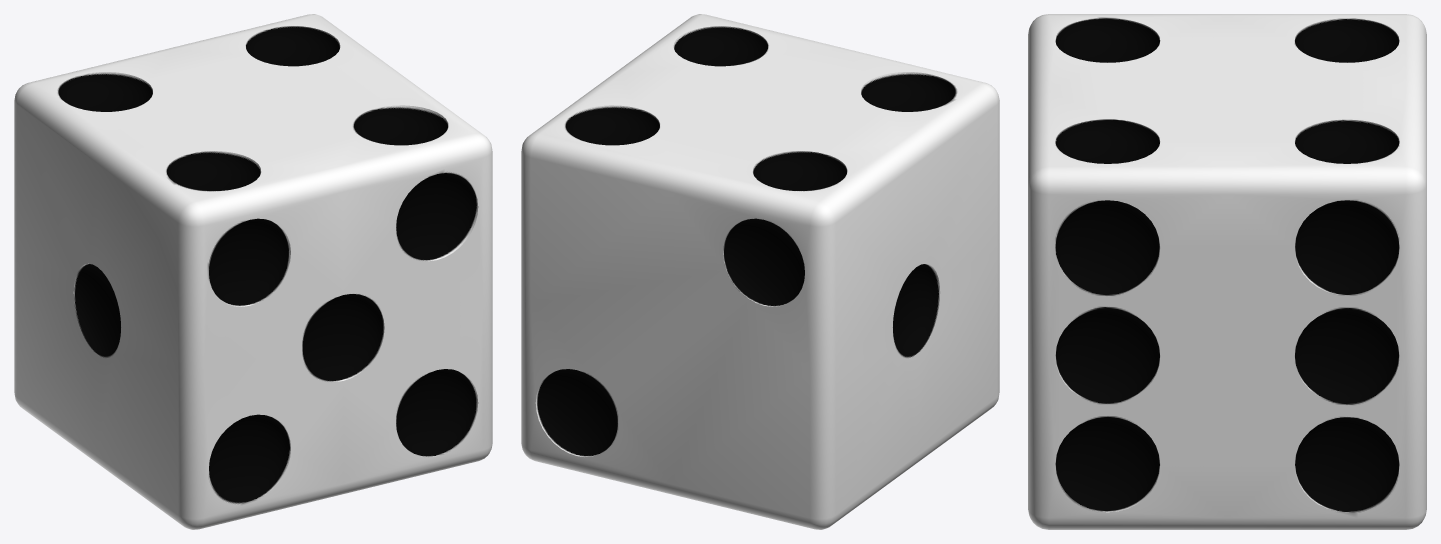
The model's file is Dice.glb.
3 renders of one model, left to right at view 1: azimuth 30°, elevation 25°; view 2: azimuth 150°, elevation 25°; view 3: azimuth 270°, elevation 25°, orthographic. The views are drawn at different scales.
Parts seen in each view (by area): view 1: 12mm_die.1; view 2: 12mm_die.1; view 3: 12mm_die.1.
Boxes of the visible parts, <box> form: 12mm_die.1: <box>14,14,492,529</box>; 12mm_die.1: <box>521,14,999,529</box>; 12mm_die.1: <box>1028,14,1426,529</box>.
Size of the model in its own units: 0.1596 by 0.1596 by 0.1596.
1 material, 1 textured.
